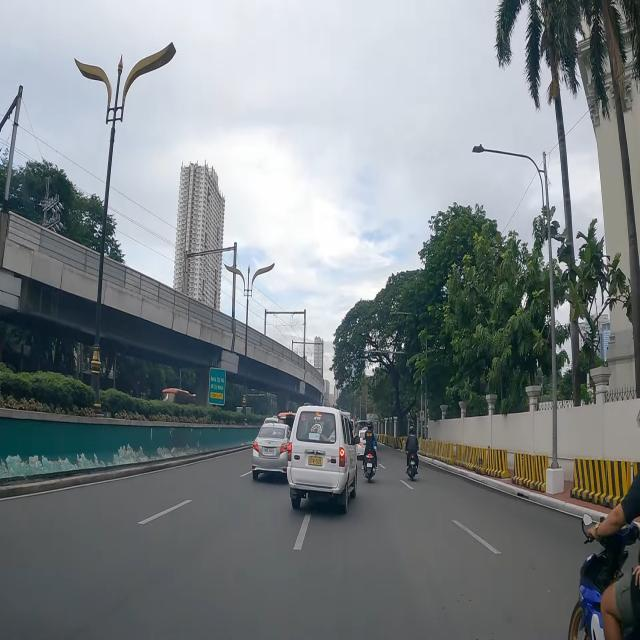bus: (160, 388, 196, 406)
car: (288, 404, 356, 516), (252, 424, 291, 484), (356, 426, 377, 459)
jeepney: (278, 412, 297, 432)
motorcycle: (571, 406, 640, 640), (361, 421, 378, 484), (405, 424, 420, 480)
